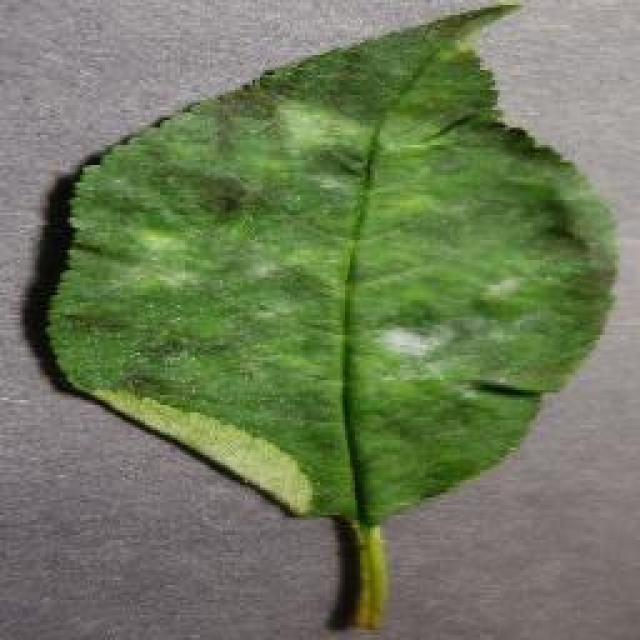Cherry___Powdery_mildew: (32, 2, 630, 638)
